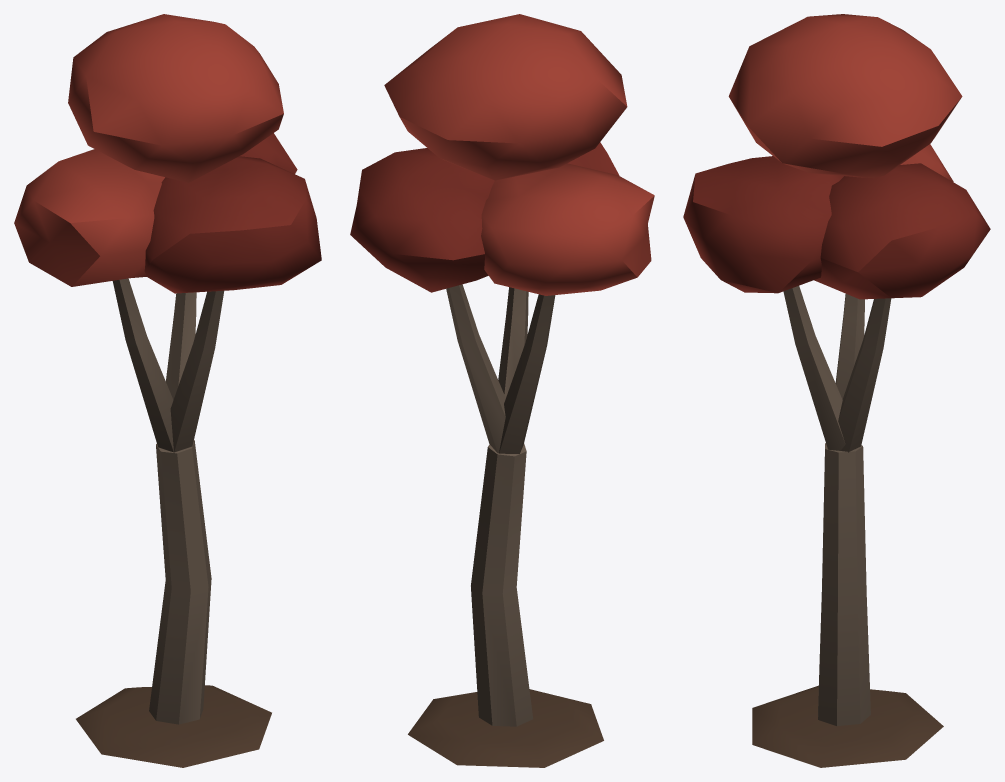
The model's file is tree_bloodmaple_s2.glb.
The picture shows the model from 3 angles, left to right: view 1: azimuth 30°, elevation 25°; view 2: azimuth 150°, elevation 25°; view 3: azimuth 270°, elevation 25°; orthographic projection.
Visible parts, largest first — view 1: tree_bloodmaple_s2; view 2: tree_bloodmaple_s2; view 3: tree_bloodmaple_s2.
Part boxes in pixels (<box>): tree_bloodmaple_s2: <box>14,14,321,767</box>; tree_bloodmaple_s2: <box>350,14,654,767</box>; tree_bloodmaple_s2: <box>683,14,990,767</box>.
Bounding box in the file's own units: 0.917 × 2.3 × 0.9147.
